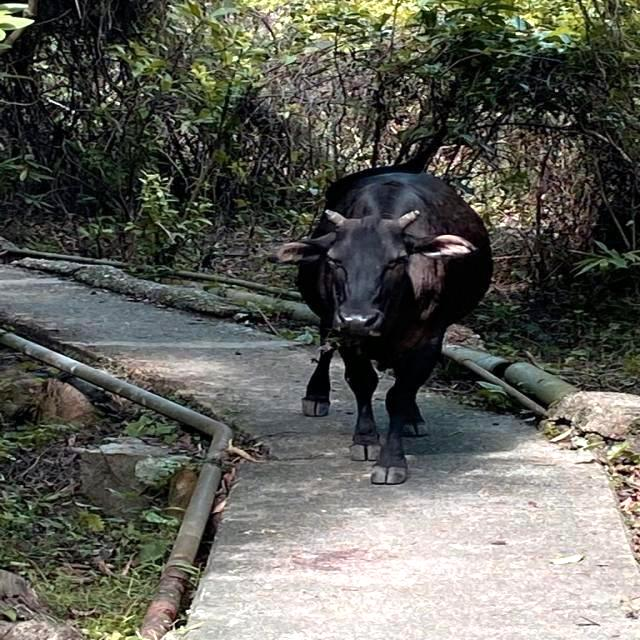COW: (282, 164, 492, 484)
